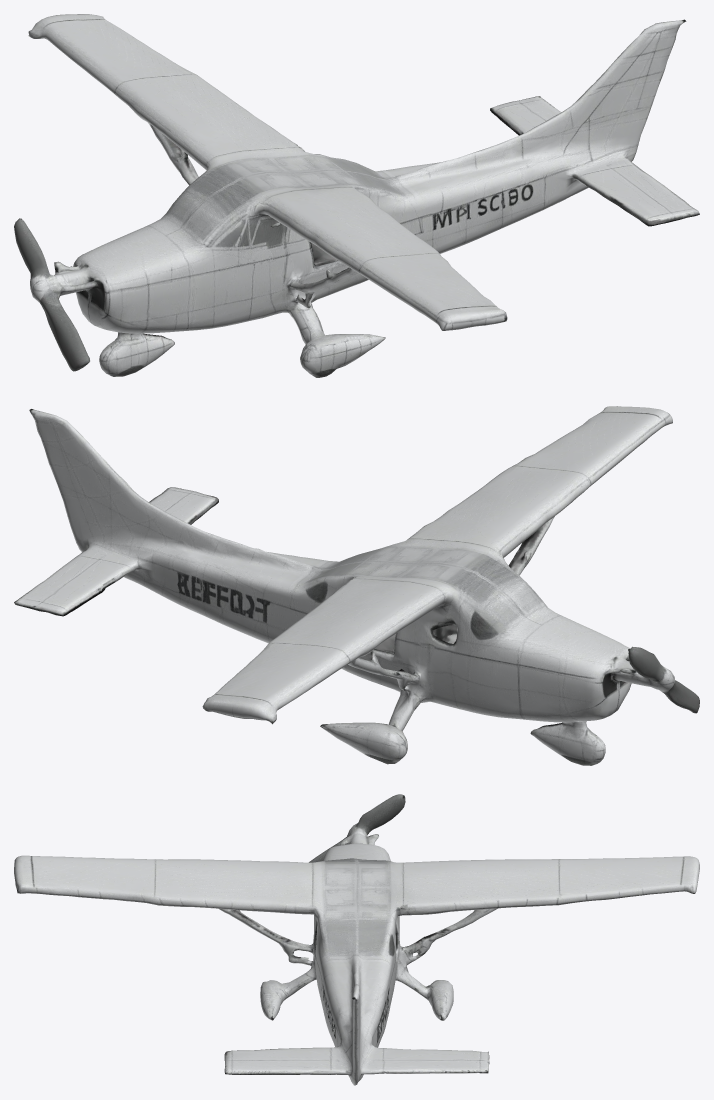
Rendered from cessna172-opt.glb.
3 renders of one model, top to bottom at view 1: azimuth 30°, elevation 25°; view 2: azimuth 150°, elevation 25°; view 3: azimuth 270°, elevation 25°, orthographic. The views are drawn at different scales.
Bounding box in the file's own units: 1.82 × 0.5919 × 2.
Materials: 1 (1 with a texture image).
